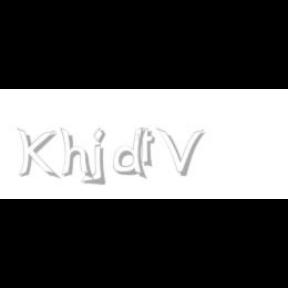K: (17, 128, 57, 180)
V: (157, 128, 205, 176)
d: (114, 128, 150, 180)
h: (60, 128, 96, 180)
j: (90, 128, 119, 186)
t: (137, 128, 159, 168)
